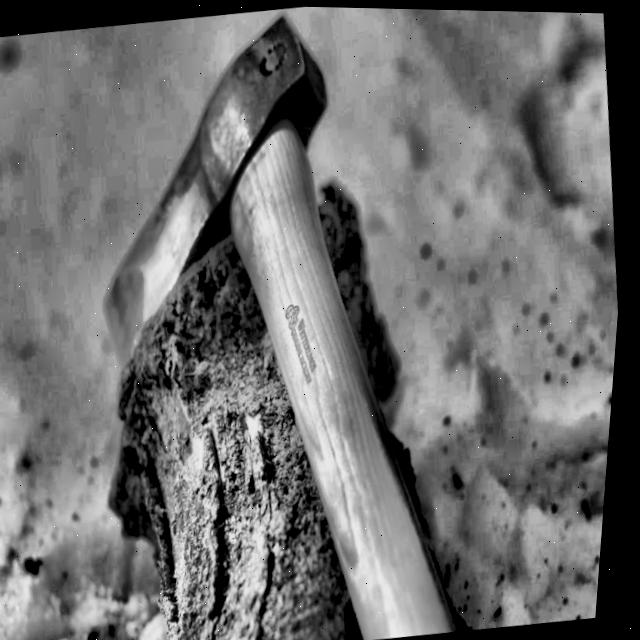kapak: (100, 8, 466, 640)
